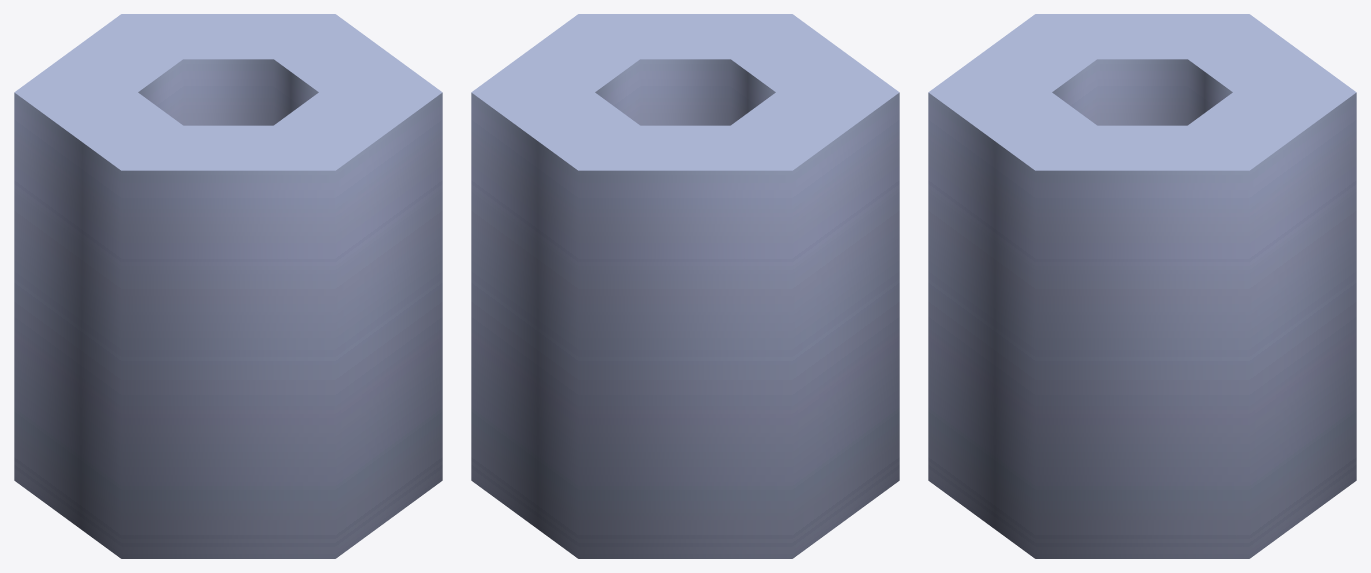
File: shape-hollow-hexagon.glb
3 views of the same model, side by side, from view 1: azimuth 30°, elevation 25°; view 2: azimuth 150°, elevation 25°; view 3: azimuth 270°, elevation 25° (orthographic).
Visible parts, largest first — view 1: shape-hollow-hexagon; view 2: shape-hollow-hexagon; view 3: shape-hollow-hexagon.
Part boxes in pixels (x1,y1,x2,y2): shape-hollow-hexagon: [14, 14, 442, 558]; shape-hollow-hexagon: [471, 14, 899, 558]; shape-hollow-hexagon: [928, 14, 1356, 558].
Bounding box in the file's own units: 0.8661 × 1 × 1.
1 material, 1 textured.
